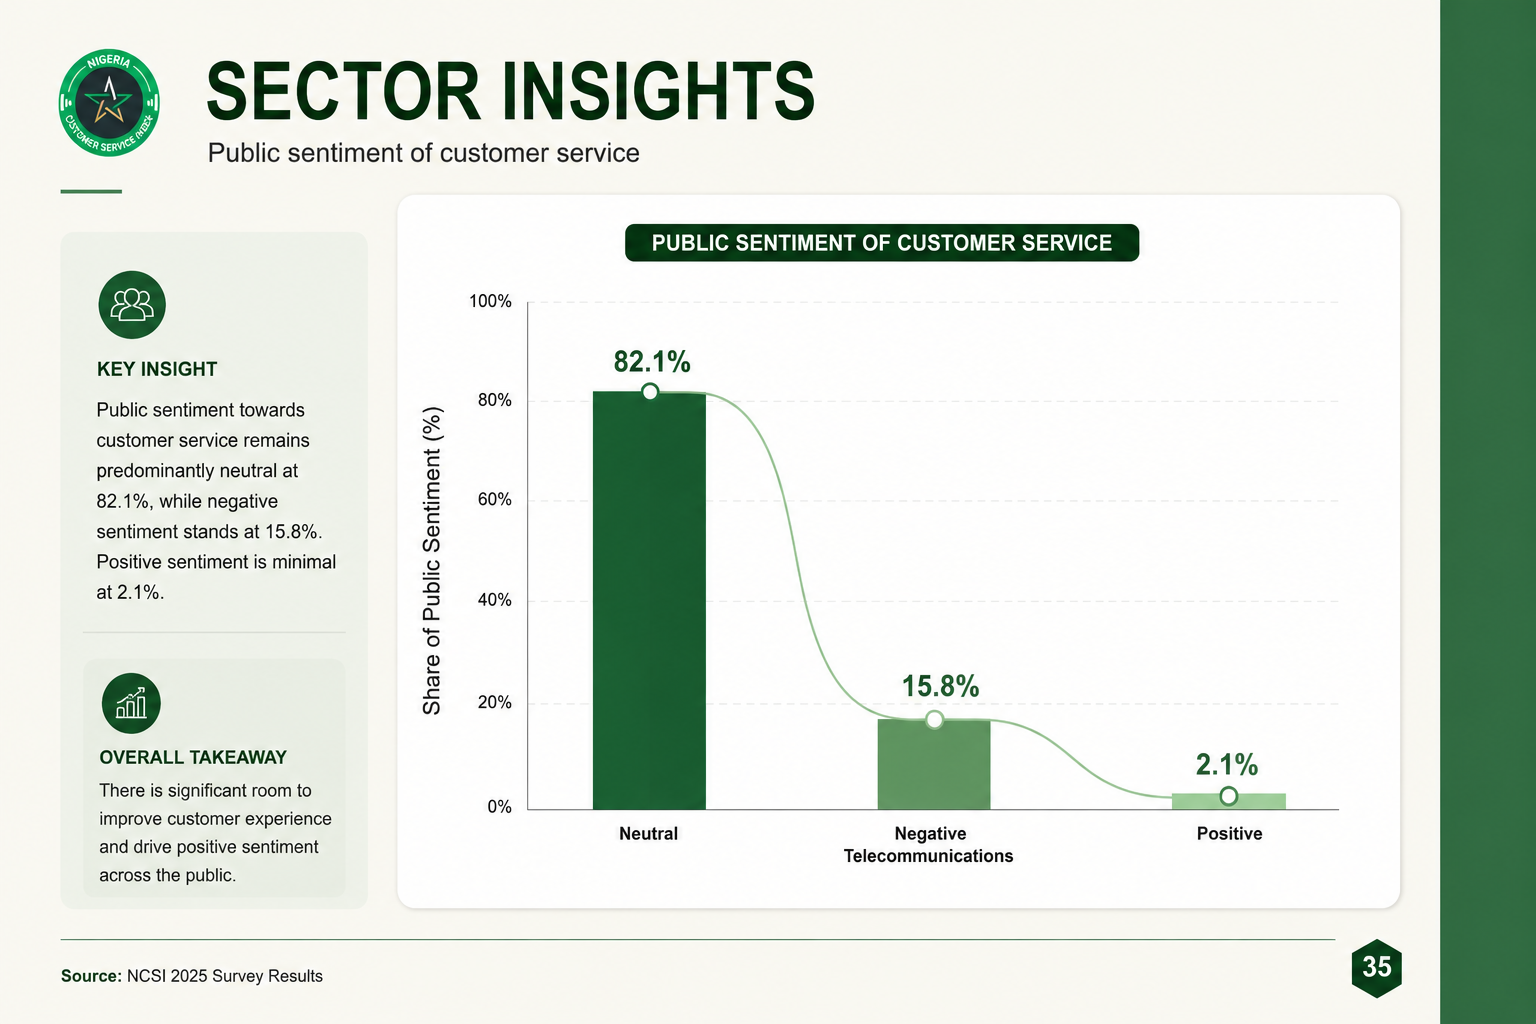

The page's visual inventory and layout, read from the dashboard file:
{"tool":"powerbi","page":{"name":"Telecommunications Sector Insights I","canvas":[1280,720],"ordinal":23},"visuals":[{"type":"ribbonChart","title":"Public Sentiment of Customer Service","fields":{"Category":["stage_9_output.impr_on_cust_sentiment"],"Y":["CountNonNull(stage_9_output.impr_on_cust_sentiment)"]},"box":[0,0,1280,720],"z":0},{"type":"slicer","fields":{"Values":["sectors_and_subsectors.sector"]},"box":[980.4,0,299.6,70],"z":1000}]}

Visuals, with their boxes on the page's 1280x720 design canvas (x1, y1, x2, y2). These are canvas units, not pixel positions in the 1536x1024 screenshot, which may show the page scaled, cropped or inside an application window:
"Public Sentiment of Customer Service" ribbonChart: x1=0 y1=0 x2=1280 y2=720
slicer - sectors_and_subsectors.sector: x1=980 y1=0 x2=1280 y2=70
